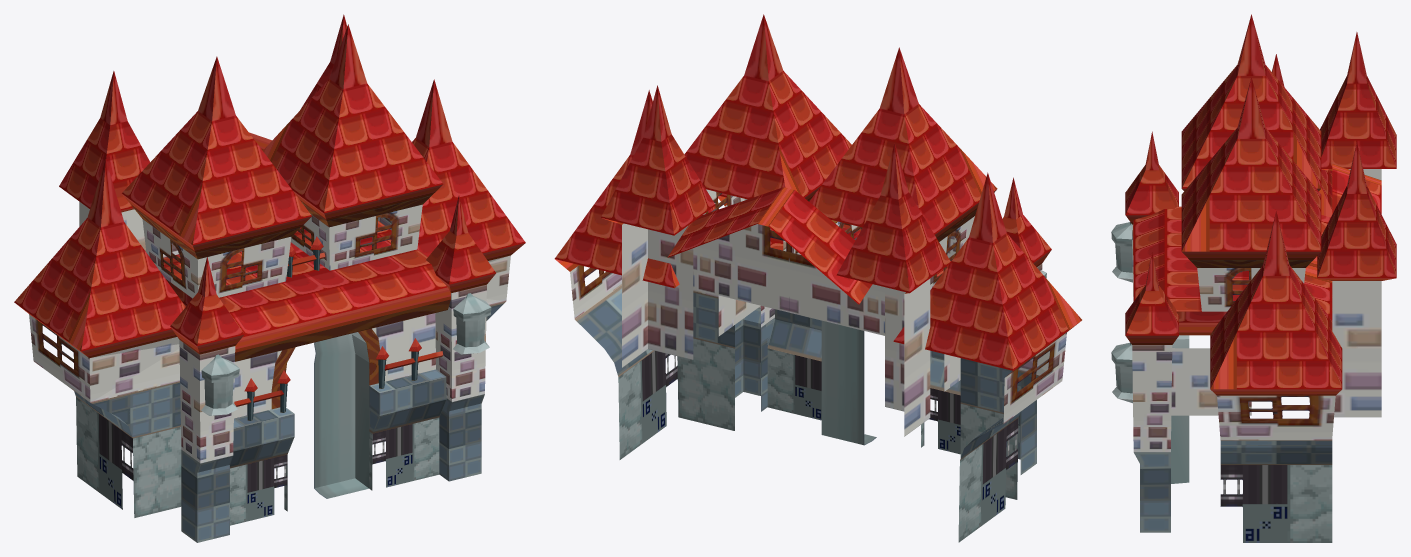
File: hobj_myhouse_max_02a.obj
3 renders of one model, left to right at view 1: azimuth 30°, elevation 25°; view 2: azimuth 150°, elevation 25°; view 3: azimuth 270°, elevation 25°, orthographic. The views are drawn at different scales.
Visible parts, largest first — view 1: vsn_mesh_2__mesh_2_, vsn_mesh_0__mesh_0_, vsn_mesh_1__mesh_1_; view 2: vsn_mesh_2__mesh_2_, vsn_mesh_0__mesh_0_; view 3: vsn_mesh_2__mesh_2_, vsn_mesh_0__mesh_0_, vsn_mesh_1__mesh_1_.
Boxes of the visible parts, x1,y1,x2,y2 form: vsn_mesh_2__mesh_2_: (14, 14, 525, 420); vsn_mesh_0__mesh_0_: (29, 194, 510, 542); vsn_mesh_1__mesh_1_: (201, 293, 491, 415); vsn_mesh_2__mesh_2_: (554, 14, 1081, 376); vsn_mesh_0__mesh_0_: (570, 189, 1066, 542); vsn_mesh_2__mesh_2_: (1125, 14, 1396, 395); vsn_mesh_0__mesh_0_: (1132, 169, 1381, 542); vsn_mesh_1__mesh_1_: (1111, 222, 1132, 403).
Size of the model in its own units: 1.63 by 1.49 by 0.9193.
Materials: 3 (3 with a texture image).
